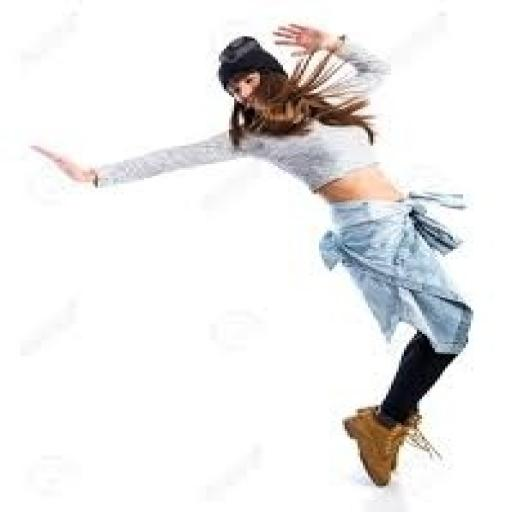dancing: (26, 18, 478, 490)
